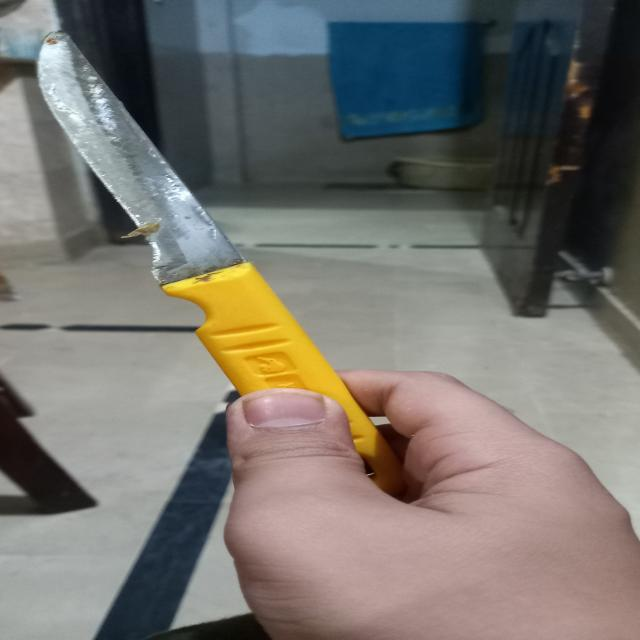weapon: (29, 30, 387, 476)
